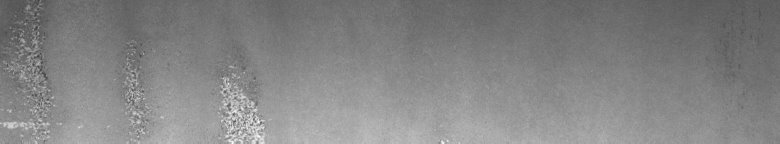hc: (4, 4, 152, 136)
